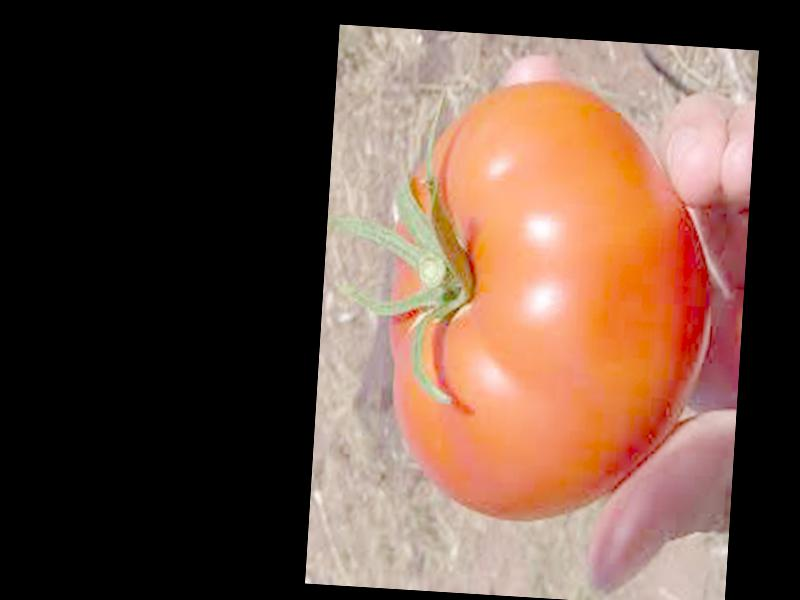Tomato: (377, 73, 720, 531)
